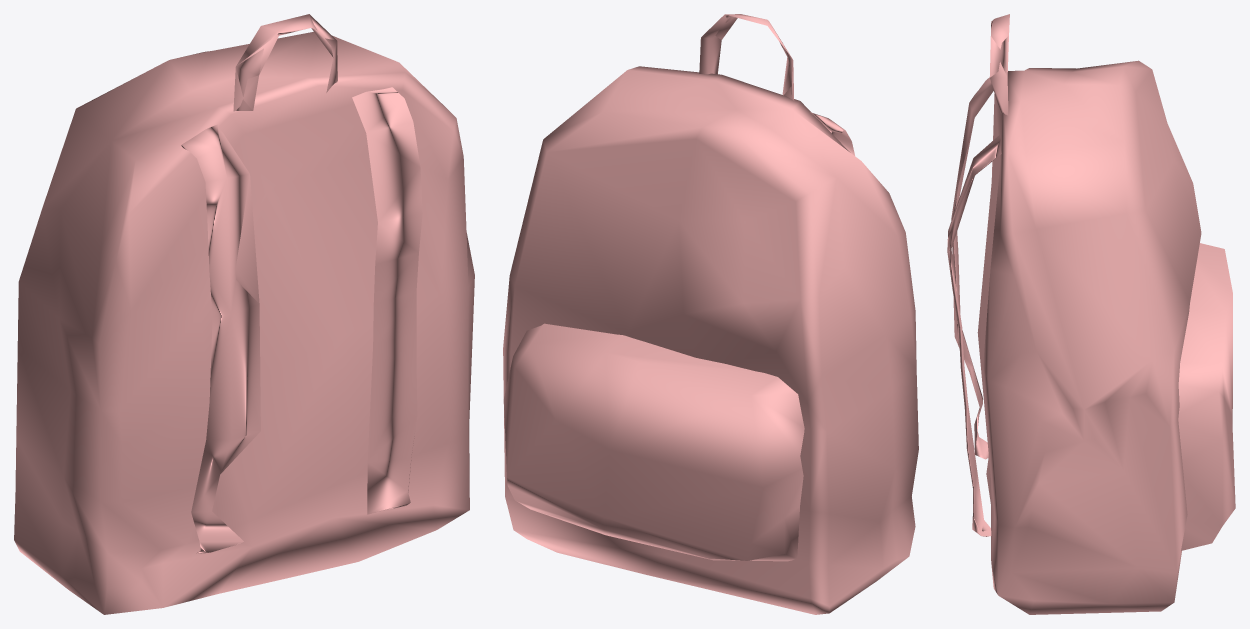
File: Backpack_Collider.fbx
3 renders of one model, left to right at view 1: azimuth 30°, elevation 25°; view 2: azimuth 150°, elevation 25°; view 3: azimuth 270°, elevation 25°, orthographic. The views are drawn at different scales.
Visible parts, largest first — view 1: Backpack_Collider; view 2: Backpack_Collider; view 3: Backpack_Collider.
Part boxes in pixels (left/top/right/bottom): Backpack_Collider: left=14, top=14, right=474, bottom=614; Backpack_Collider: left=503, top=14, right=918, bottom=614; Backpack_Collider: left=947, top=14, right=1235, bottom=614.
Size of the model in its own units: 12.86 by 17.8 by 8.98.
